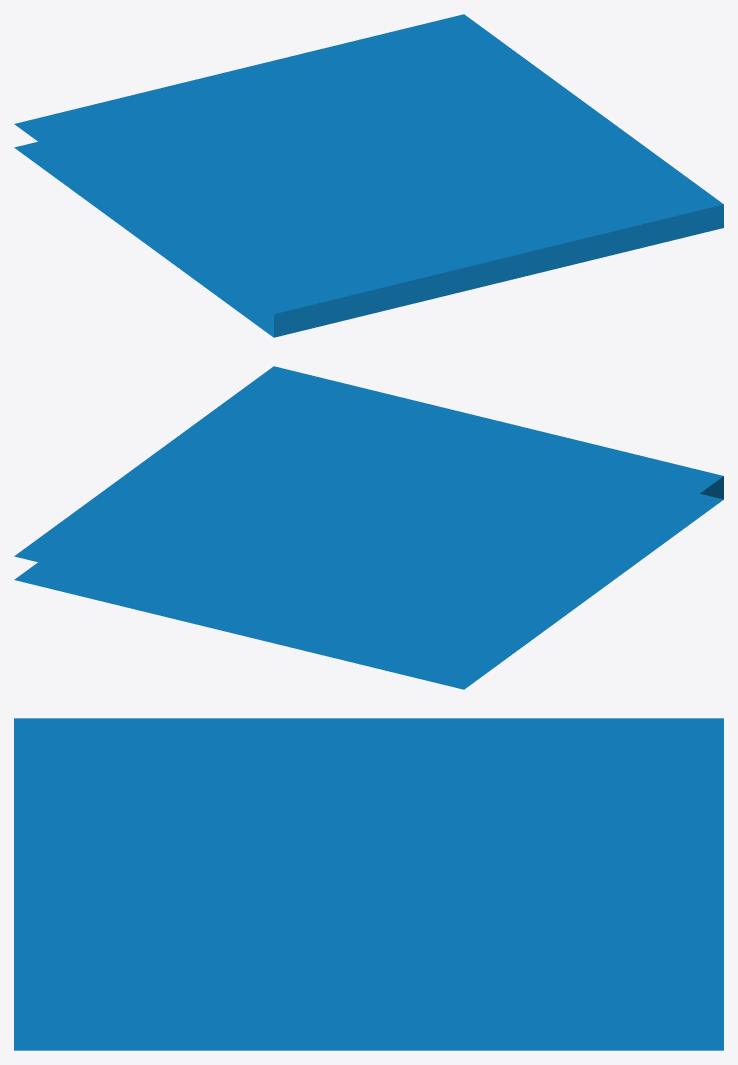
The model's file is SM_Wall_01.fbx.
3 renders of one model, top to bottom at view 1: azimuth 30°, elevation 25°; view 2: azimuth 150°, elevation 25°; view 3: azimuth 270°, elevation 25°, orthographic. The views are drawn at different scales.
Visible parts, largest first — view 1: SM_Wall_01; view 2: SM_Wall_01; view 3: SM_Wall_01.
Part boxes in pixels (bbox=[...]): SM_Wall_01: bbox=[14, 14, 723, 337]; SM_Wall_01: bbox=[14, 366, 723, 689]; SM_Wall_01: bbox=[14, 718, 723, 1050].
Size of the model in its own units: 300 by 15 by 300.
